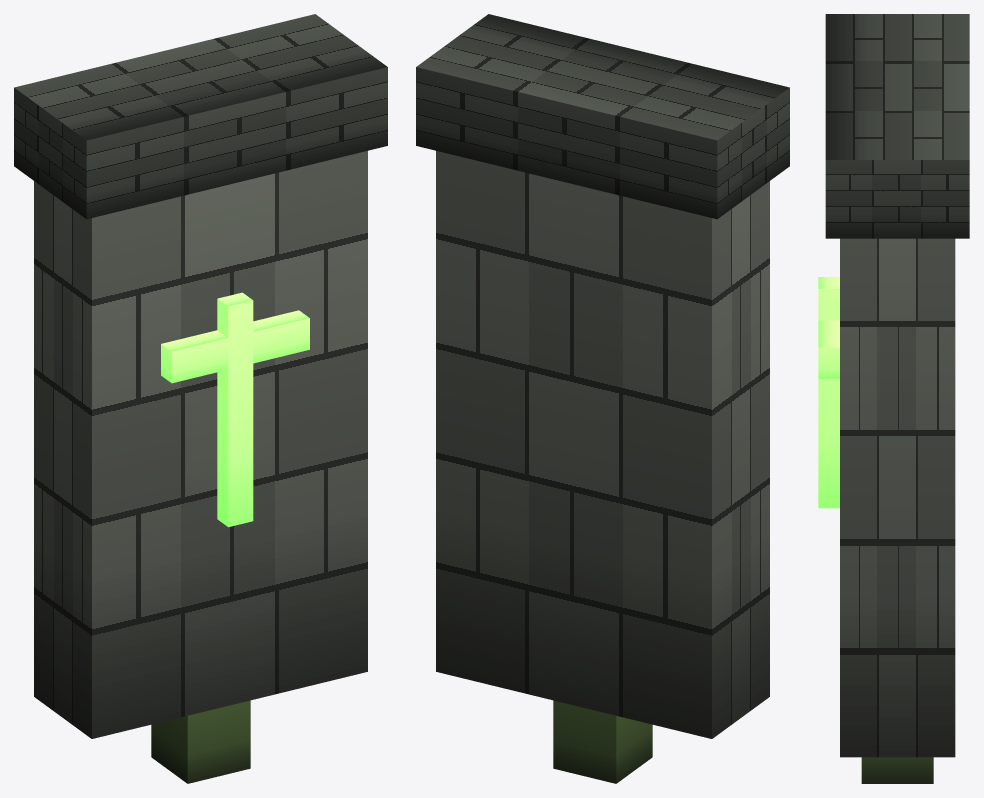
The model's file is runestone.gltf.
3 renders of one model, left to right at view 1: azimuth 30°, elevation 25°; view 2: azimuth 150°, elevation 25°; view 3: azimuth 270°, elevation 25°, orthographic.
Visible parts, largest first — view 1: runestone; view 2: runestone; view 3: runestone.
Boxes of the visible parts, <box> form: runestone: <box>14,14,387,783</box>; runestone: <box>416,14,789,783</box>; runestone: <box>818,14,969,783</box>.
Size of the model in its own units: 0.012 by 0.0261 by 0.00525.
1 material, 1 textured.
